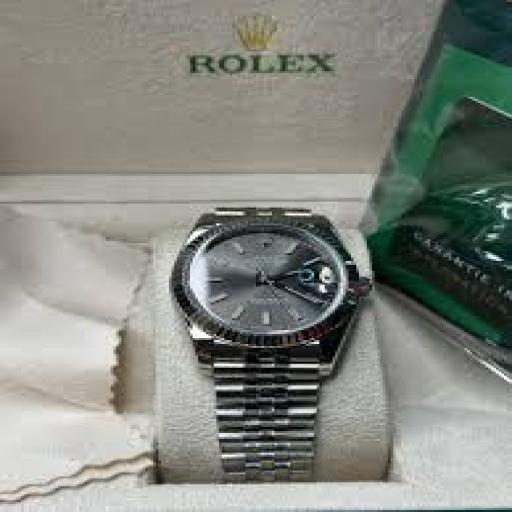KolSaati: (132, 146, 404, 488)
